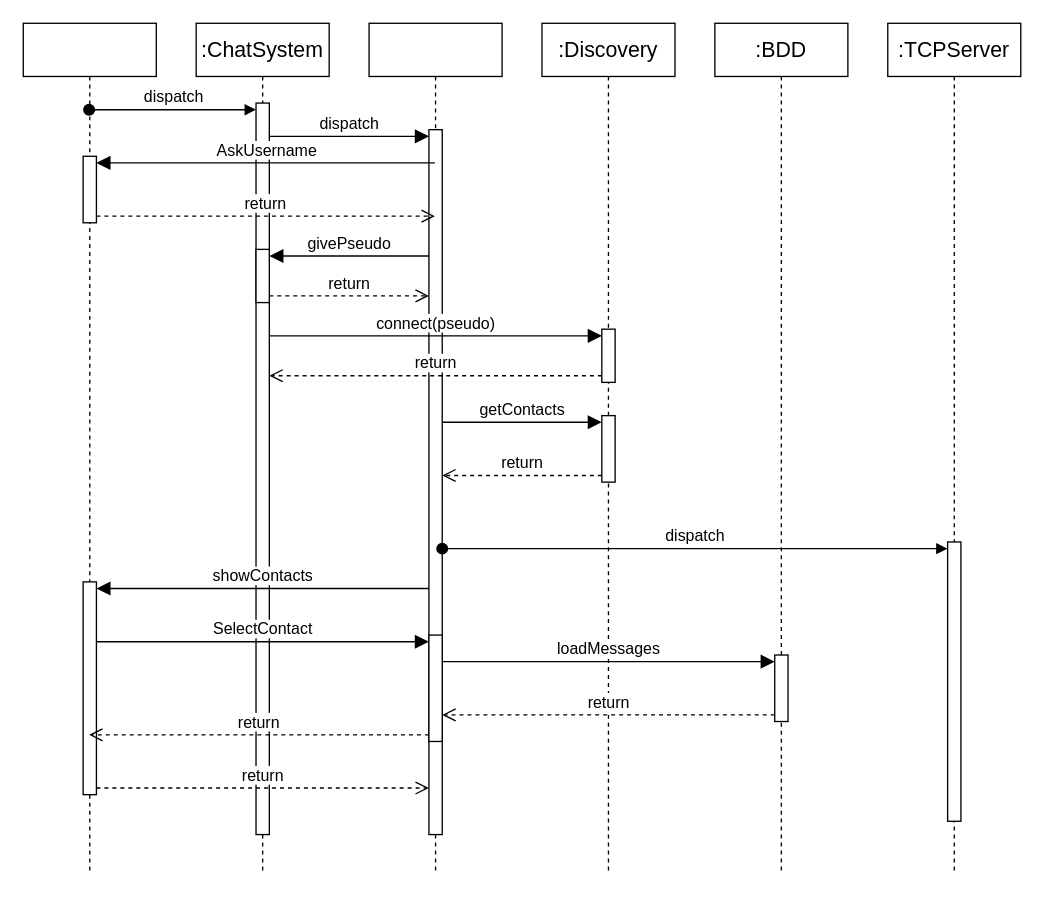
This 1044x898 diagram has some shape labels left out. The box of each missing label's shape, as (x1, y1, x2, y2) in pixels:
:User: (22, 22, 156, 874)
:Views: (368, 22, 502, 874)
